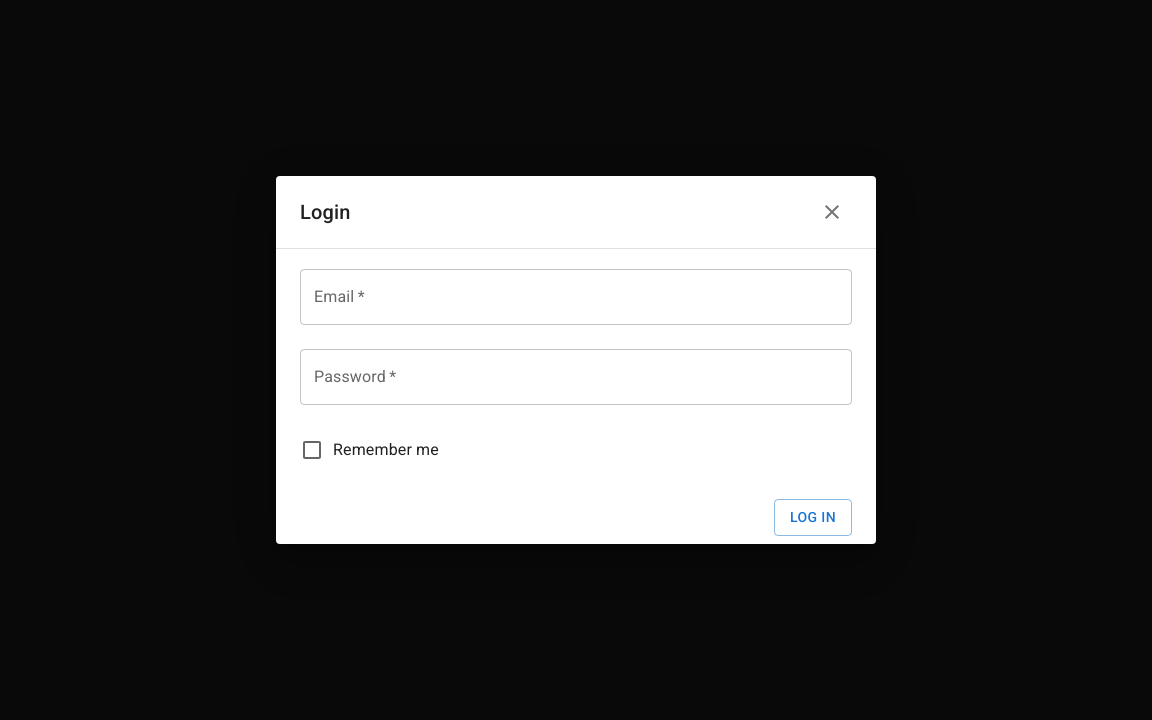
Test: LoginDialog › Form Validation › Shows email validation error when submitting with empty email
This screenshot has width=1152, height=720.
Type "Password123!" into the password field labelled "Password *" at coordinates (576, 377), box [300,349,852,405]
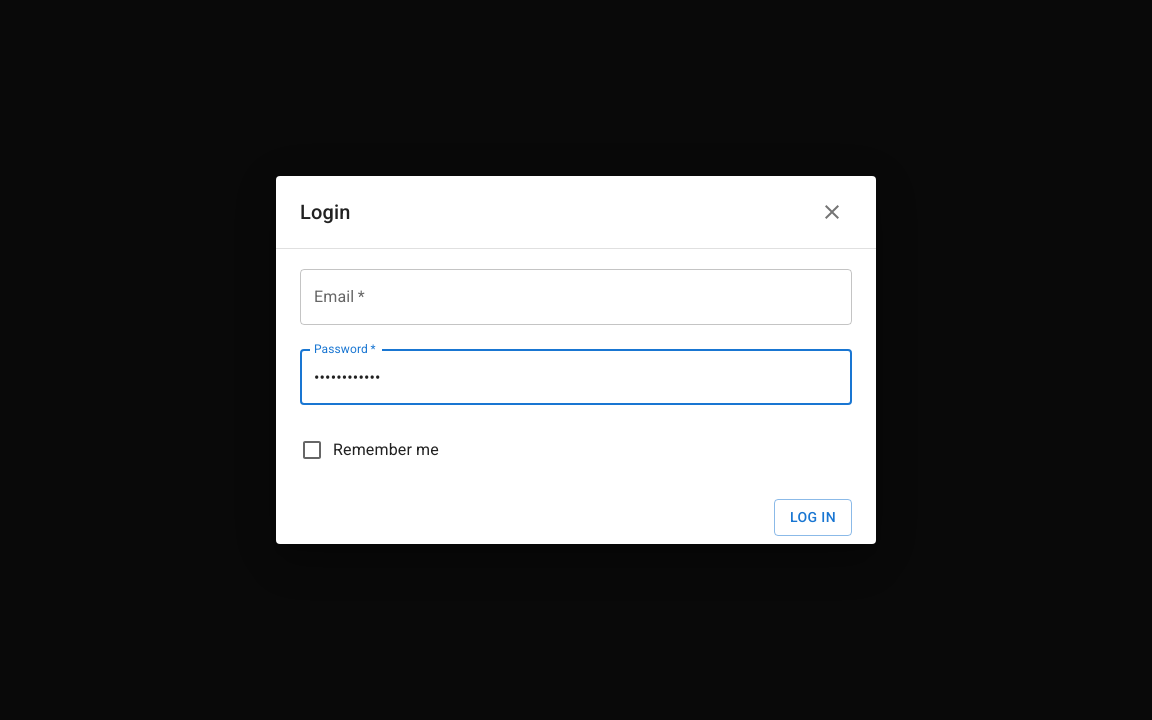
Click the button "Log In" at coordinates (813, 518), box [774,499,852,536]
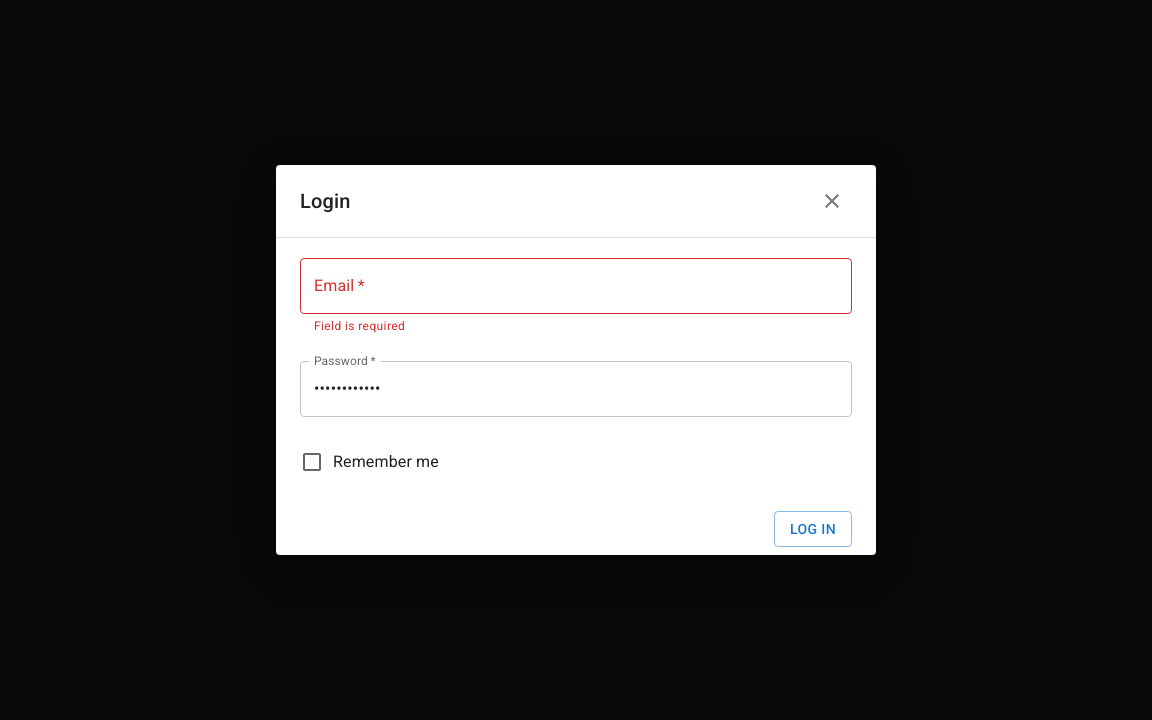
expect the text "Field is required" is shown: met, box [314,319,405,333]
